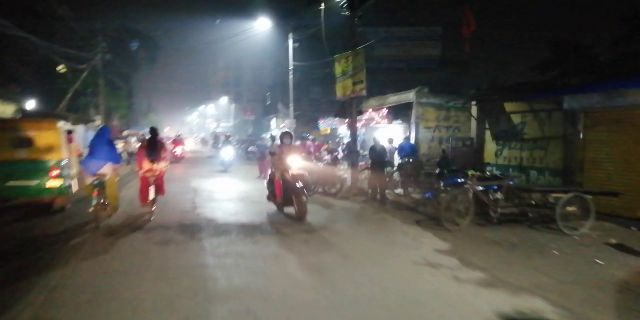Autorickshaw: (1, 117, 81, 217)
Cycle: (82, 121, 122, 235), (137, 122, 171, 221)
Motorbike: (267, 125, 317, 226)
